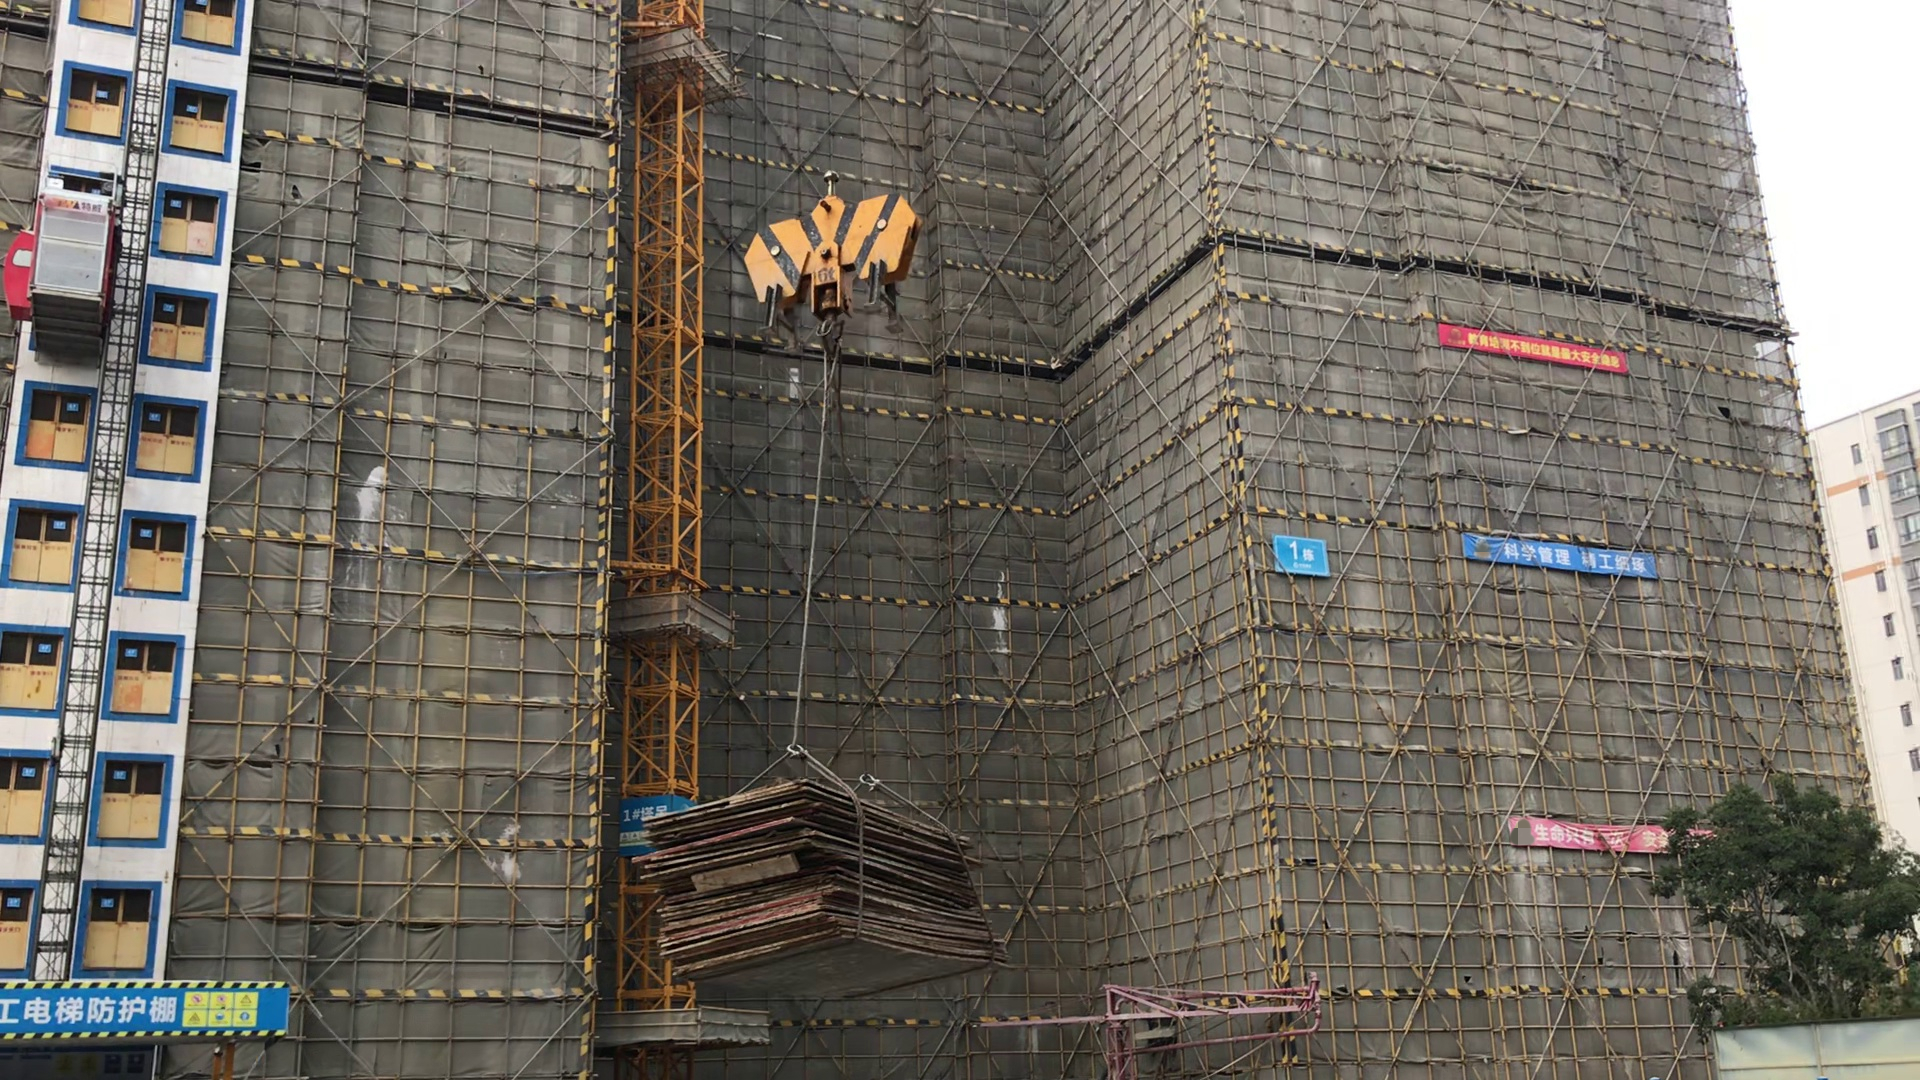board: (628, 775, 1013, 988)
hook: (740, 196, 924, 367)
slogan: (1509, 808, 1718, 862), (1458, 527, 1658, 578), (1437, 320, 1625, 371), (179, 989, 262, 1027)
